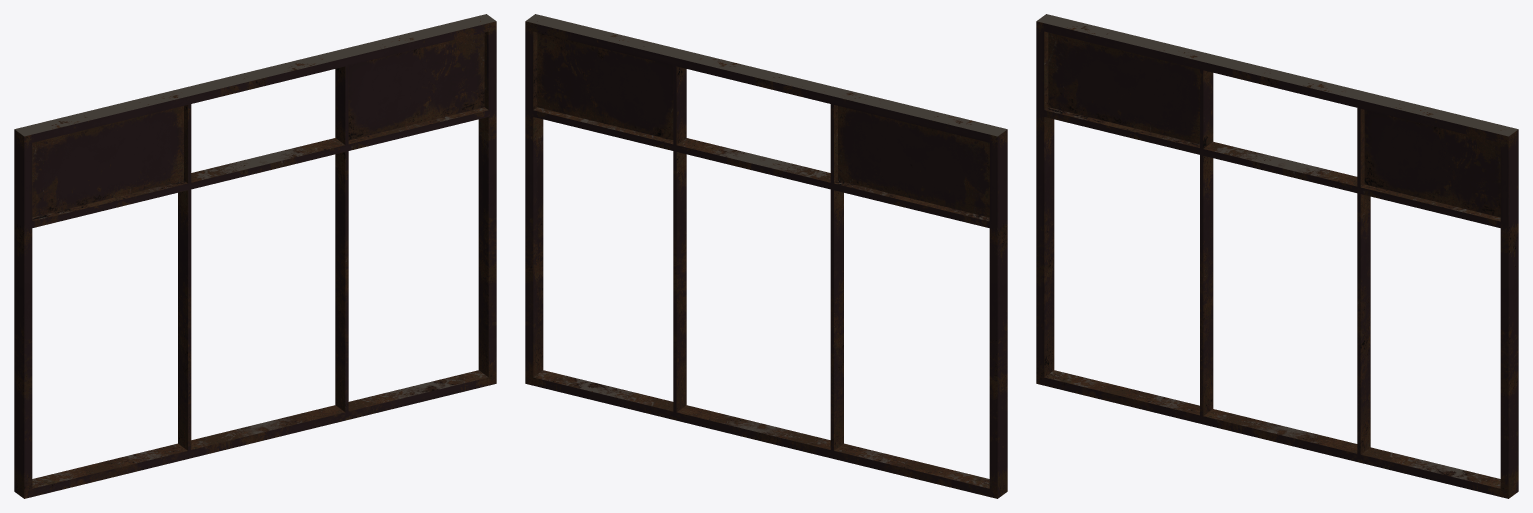
Rendered from VENTANA2.fbx.
3 renders of one model, left to right at view 1: azimuth 30°, elevation 25°; view 2: azimuth 150°, elevation 25°; view 3: azimuth 330°, elevation 25°, orthographic.
Visible parts, largest first — view 1: ventana2; view 2: ventana2; view 3: ventana2.
Boxes of the visible parts, x1,y1,x2,y2 form: ventana2: (14,14,496,498); ventana2: (525,14,1007,498); ventana2: (1036,14,1518,498).
Size of the model in its own units: 300 by 220 by 11.
